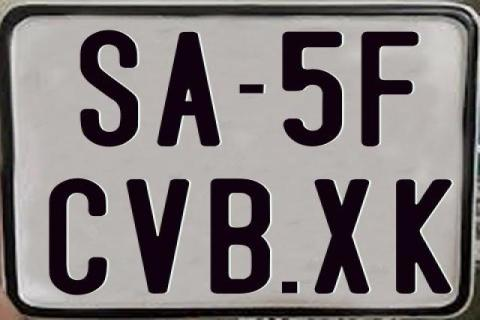0: (280, 29, 344, 145)
A: (154, 30, 218, 144)
B: (210, 177, 273, 292)
C: (49, 178, 113, 294)
F: (361, 30, 423, 146)
K: (396, 178, 458, 294)
S: (77, 29, 135, 147)
V: (123, 178, 189, 294)
X: (312, 177, 368, 297)
